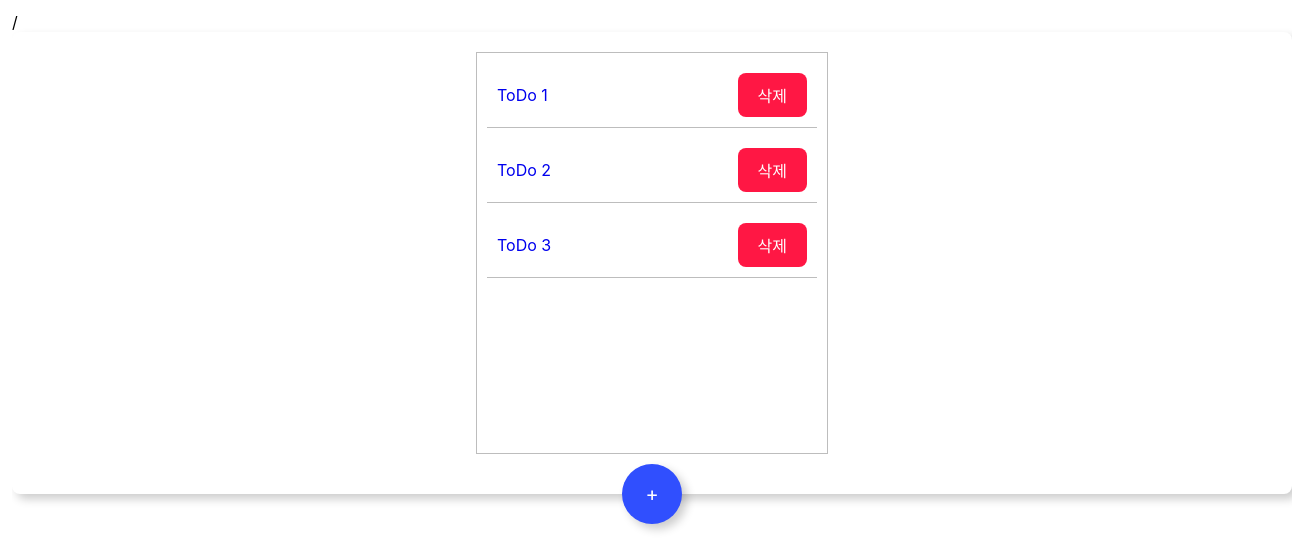
Test case: <List /> › moves to detail page
The width and height of the screenshot is (1292, 549).
Expected: the text "/" is shown, [12, 12, 18, 32]
Click the link "ToDo 2" at (524, 170), box [497, 160, 551, 180]
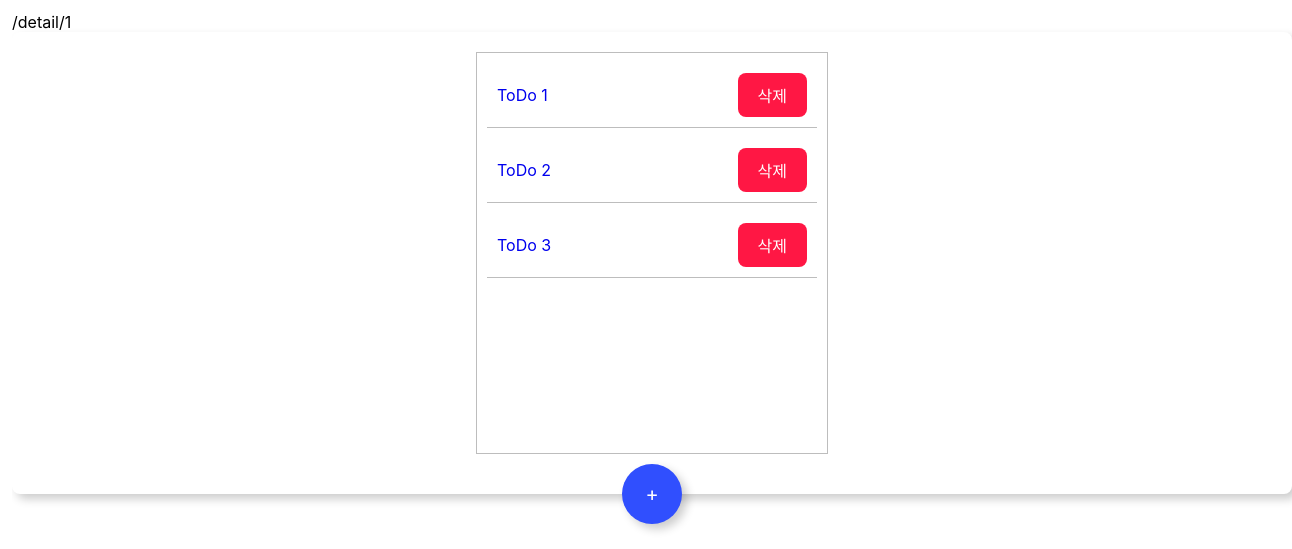
Expected: the text "/" reads "/detail/1", [12, 12, 71, 32]
